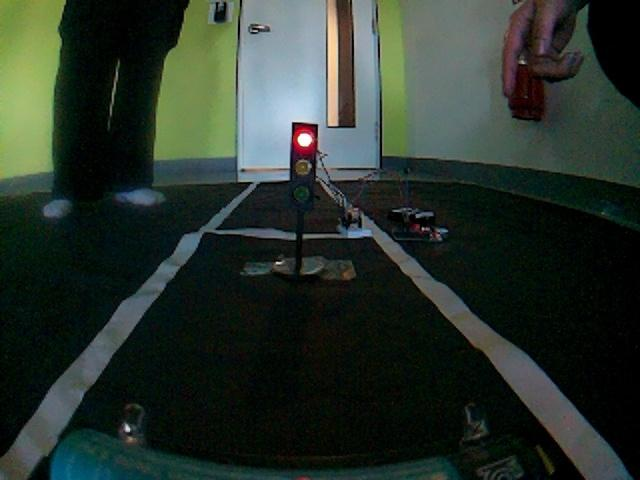go: (26, 309, 617, 480)
red_light: (216, 104, 369, 297)
